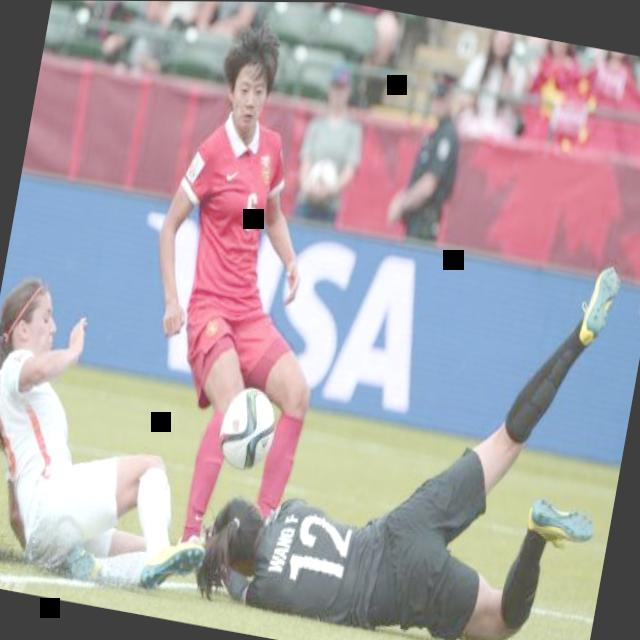Fall-Detected: (184, 181, 637, 640)
